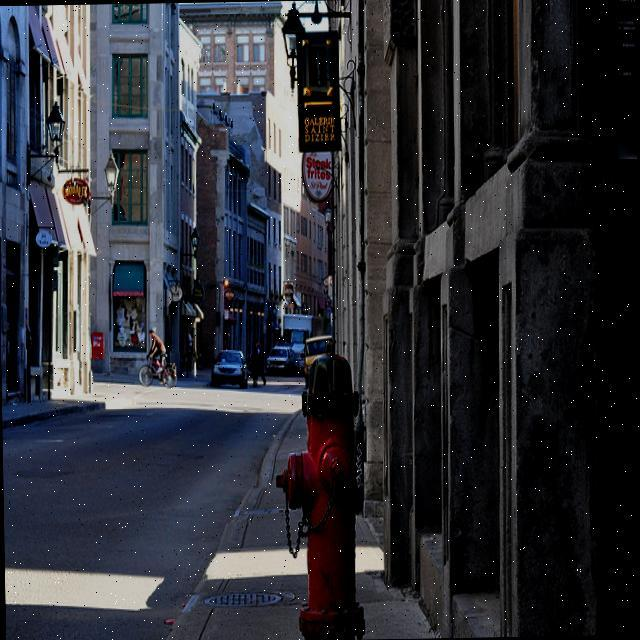fire_hydrant: (274, 340, 366, 636)
